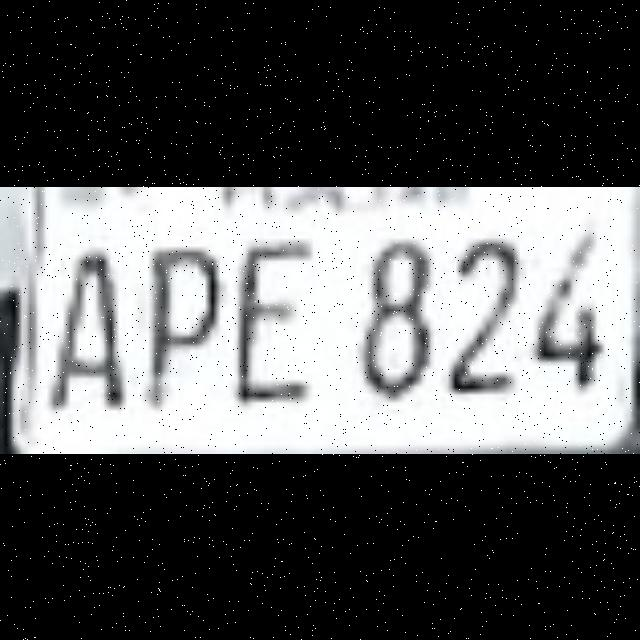2: (432, 237, 530, 395)
4: (530, 233, 626, 391)
8: (336, 241, 432, 399)
A: (29, 243, 126, 401)
E: (220, 243, 318, 401)
P: (125, 243, 222, 401)
